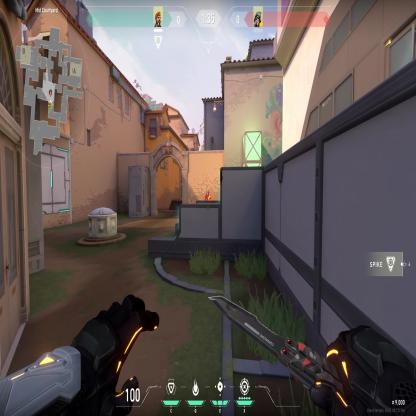enemy: (203, 187, 211, 201)
